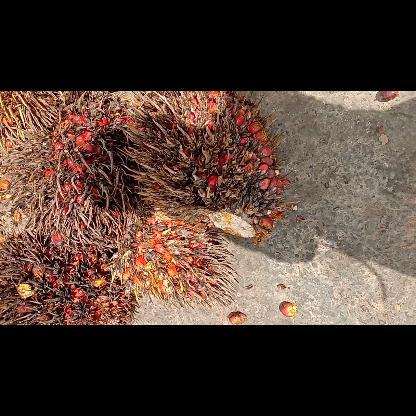Terlalu masak: (122, 91, 304, 245), (8, 91, 158, 255), (107, 208, 245, 312), (0, 226, 143, 325)
